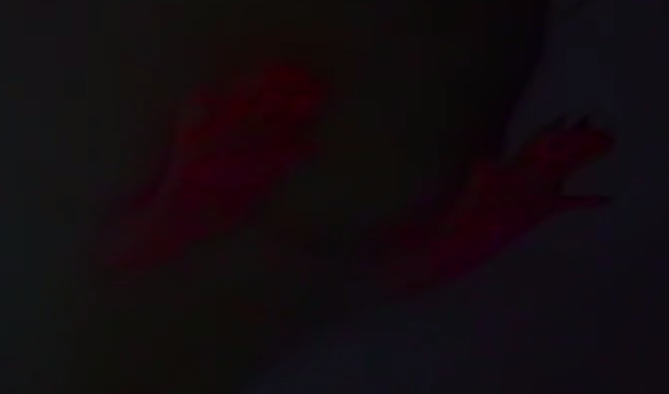paw: (439, 88, 633, 285), (153, 40, 343, 241)
